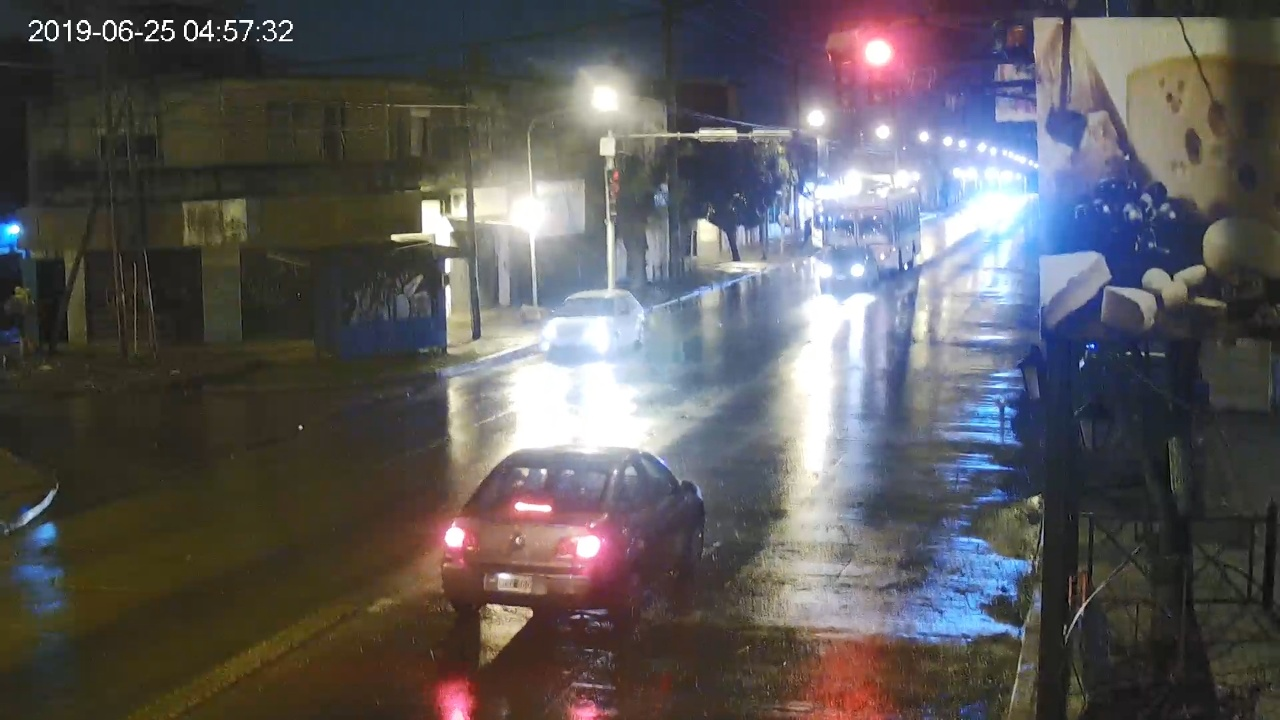car: (441, 444, 705, 619)
front car: (544, 289, 646, 353)
traffic light: (868, 39, 891, 104)
